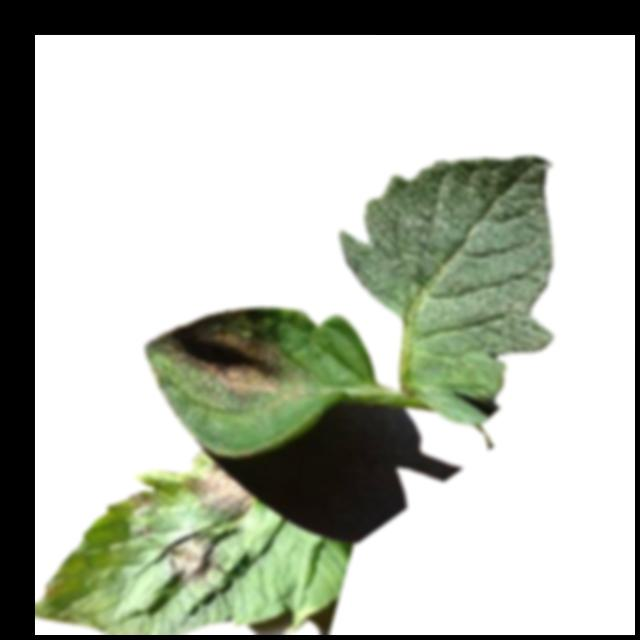Late_blight: (149, 308, 283, 394), (184, 464, 256, 523), (158, 531, 223, 585), (129, 487, 154, 511), (44, 577, 65, 600)
